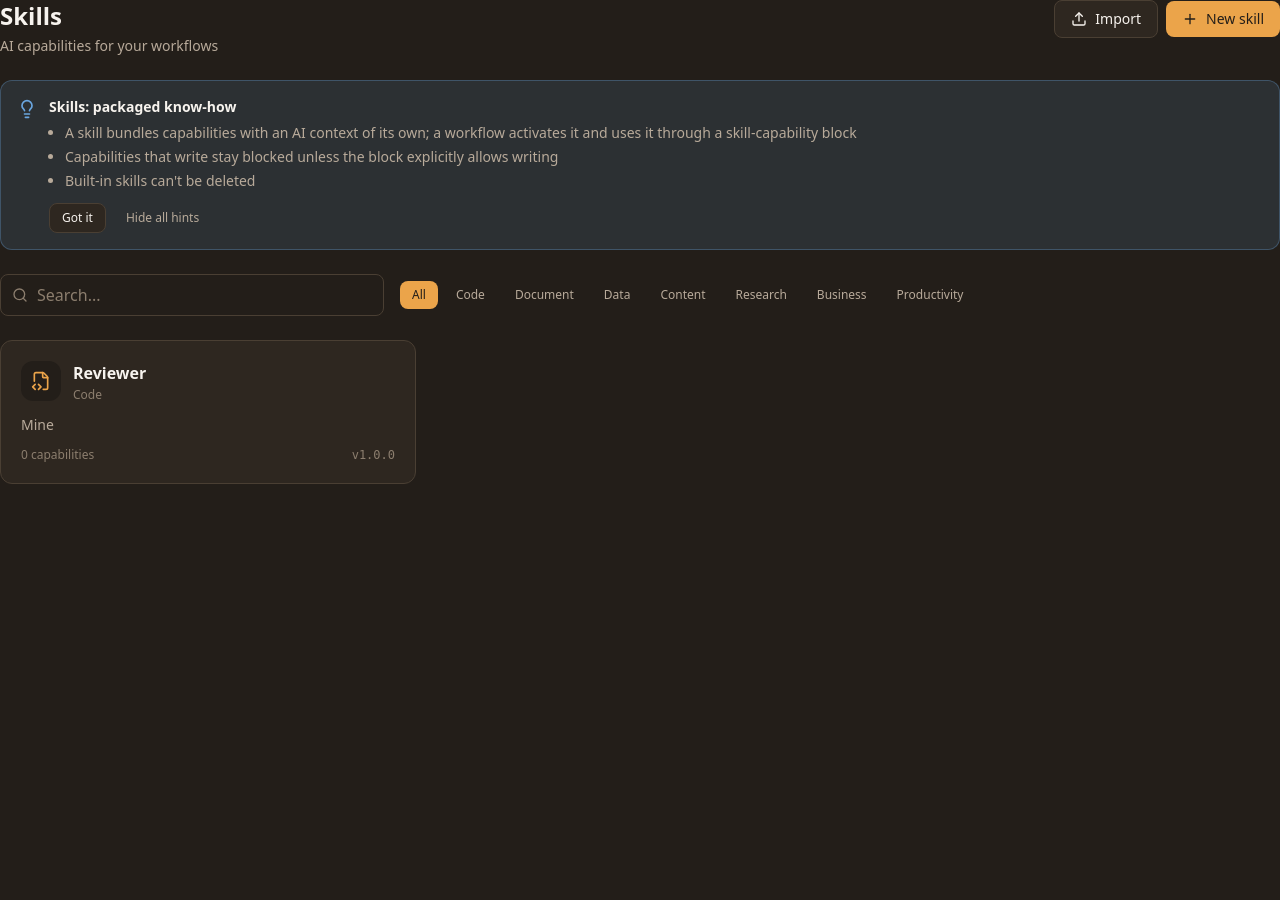
Test: Skills page — seal lock › stays locked with sealing switched off and says unsealing is off
Click the heading "Reviewer".
click(110, 373)  # box [73,361,146,385]
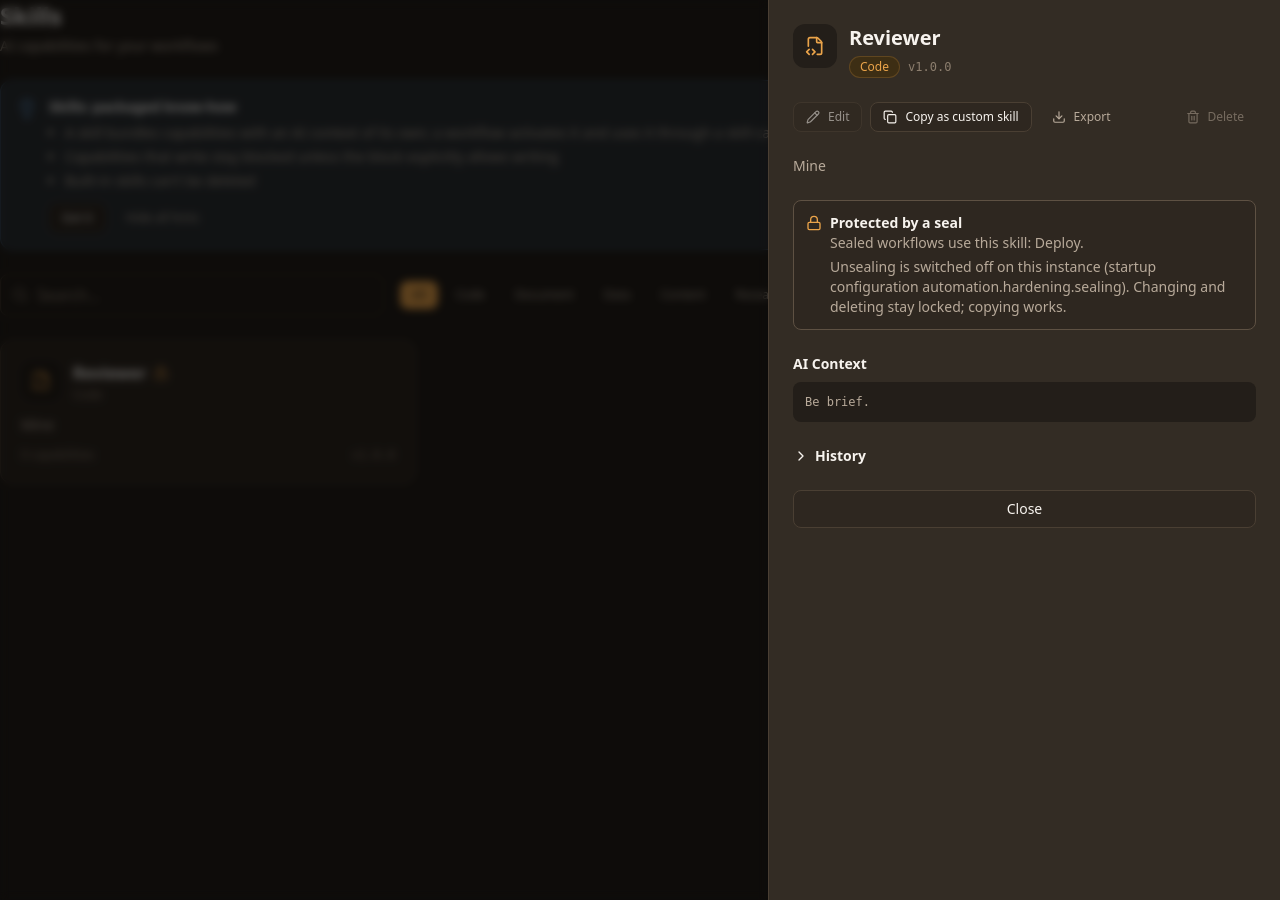
Expected: the button "Edit" is disabled, [793,102,862,132]
Expected: the text with test id "skill-sealed-way-out" shows "Unsealing is switched off", [830,257,1225,316]
